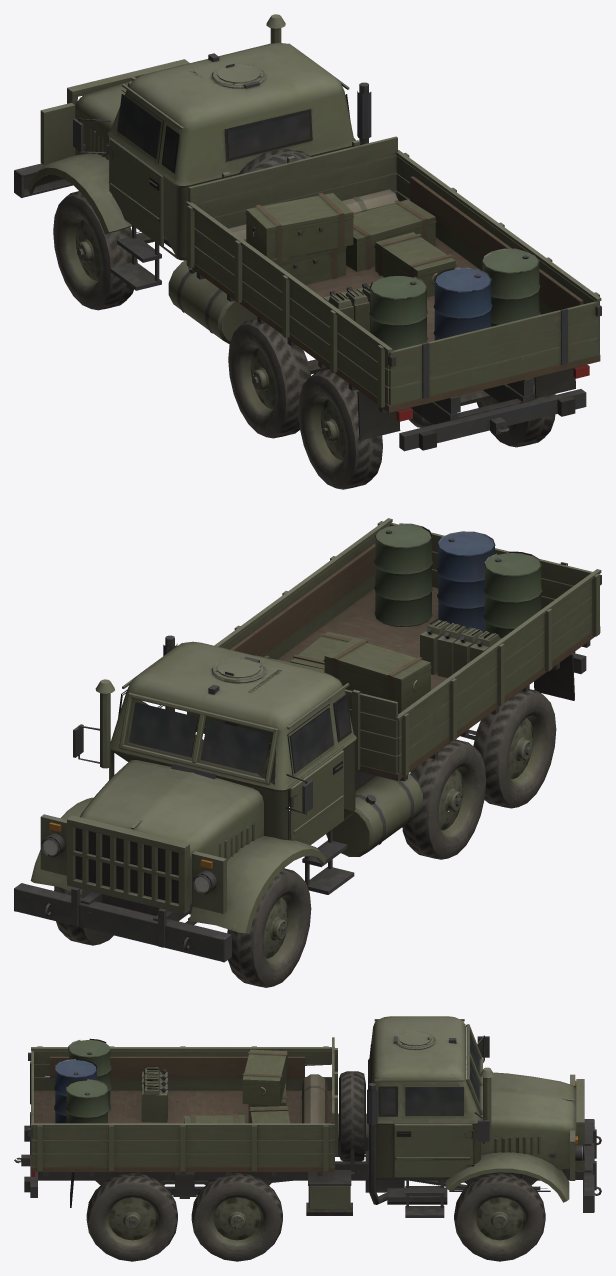
Rendered from truck.glb.
3 views of the same model, one above another, from view 1: azimuth 30°, elevation 25°; view 2: azimuth 150°, elevation 25°; view 3: azimuth 270°, elevation 25° (orthographic). The views are drawn at different scales.
Parts seen in each view (by area): view 1: body; view 2: body; view 3: body.
Part boxes in pixels (<box>): body: <box>14,14,601,489</box>; body: <box>14,518,601,987</box>; body: <box>14,1016,601,1261</box>.
Bounding box in the file's own units: 2.68 × 2.8 × 7.84.
1 material, 1 textured.
